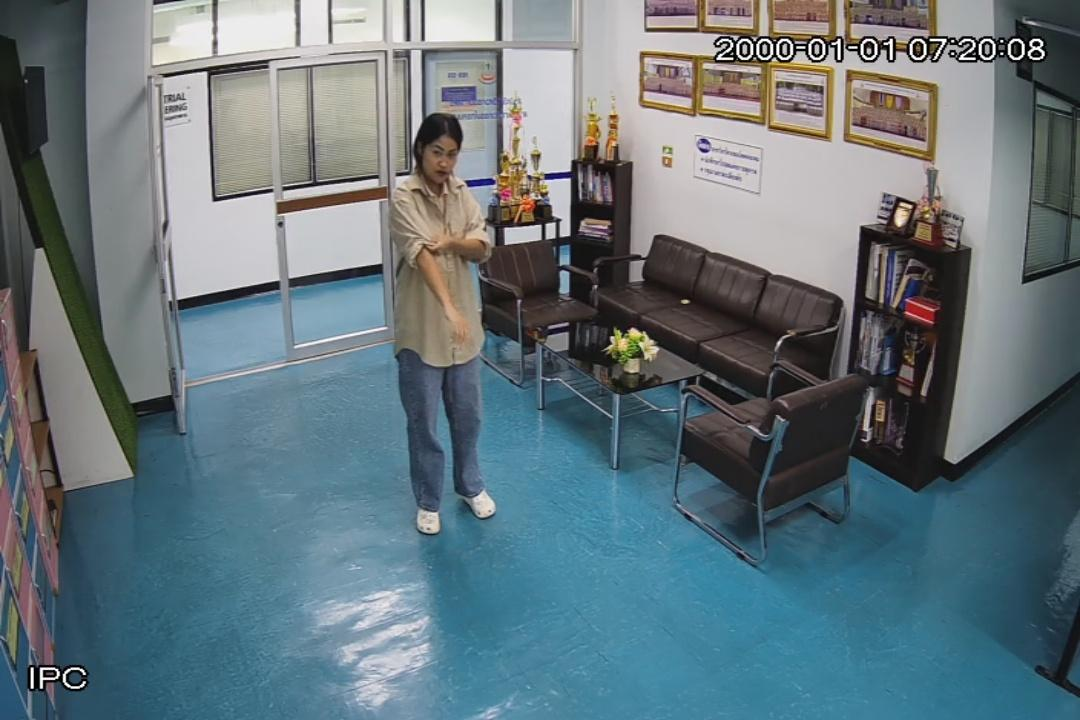normal: (384, 102, 506, 540)
